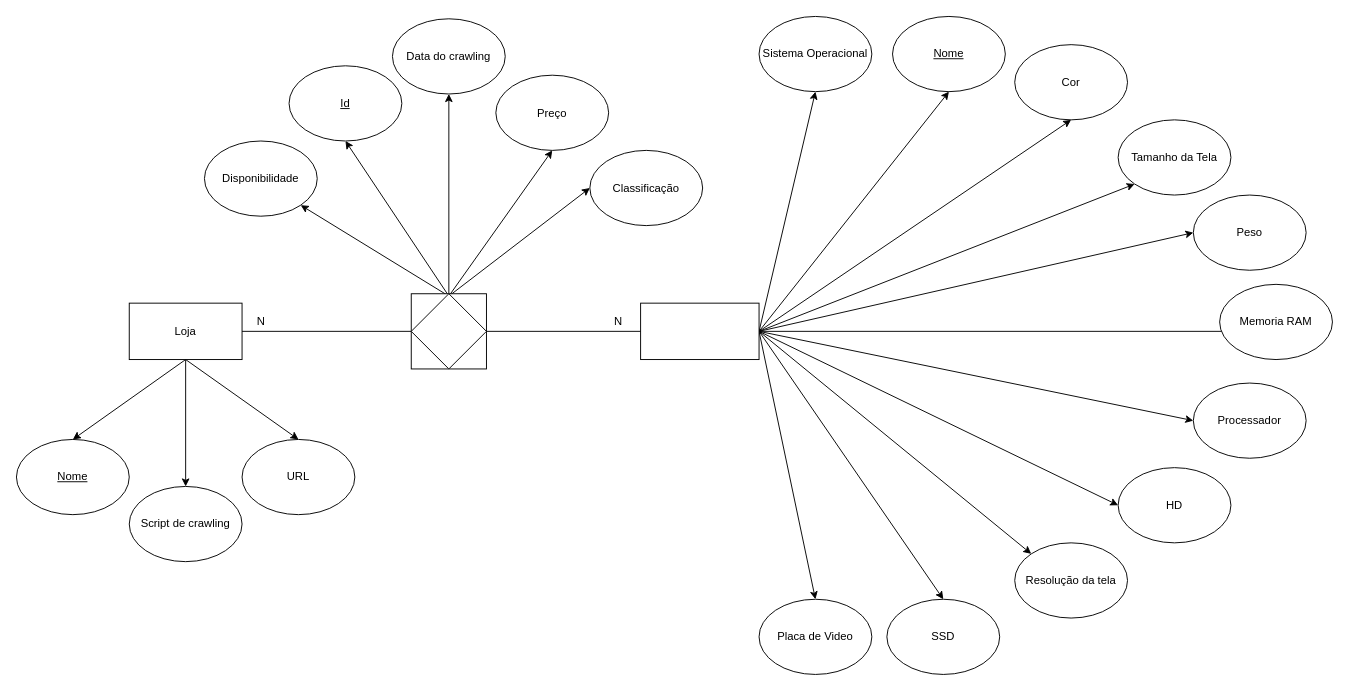
This 1349x691 diagram has some shape labels left out. The shapes that lost their labels are listed below. From the top down, each one's centre as x and y in pixels, then its label:
the point at 448,331: vende
the point at 699,331: Notebook
